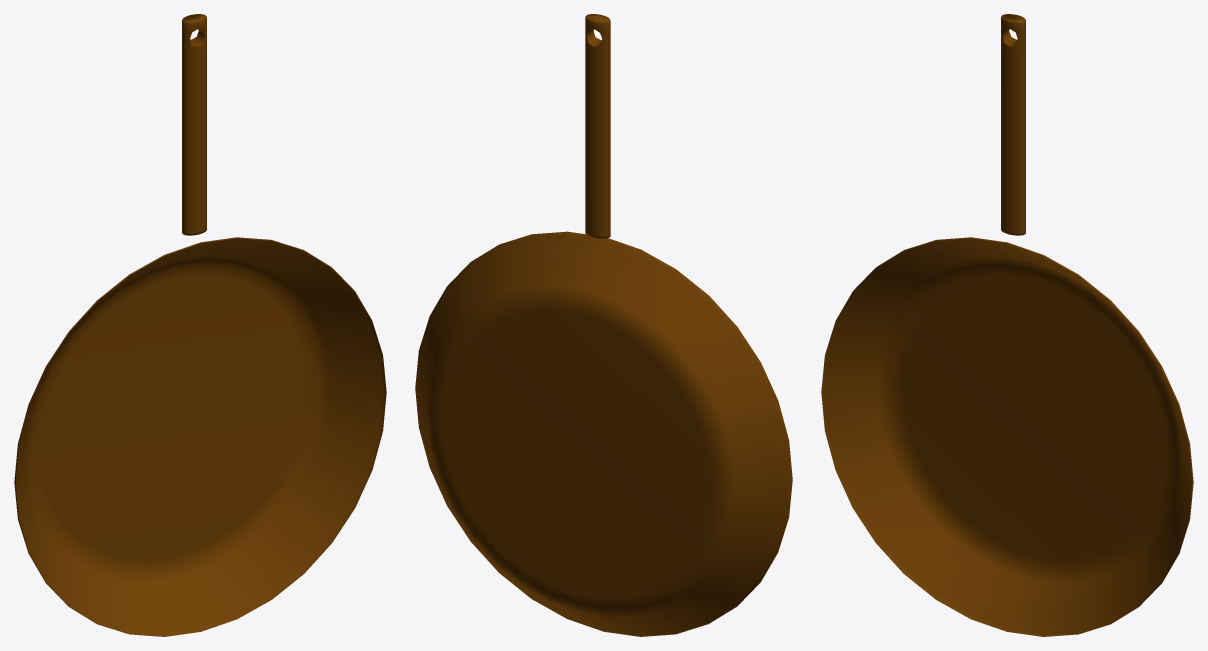
The model's file is MeshPan_2_0_GeomSubset_1.obj.
3 views of the same model, side by side, from view 1: azimuth 30°, elevation 25°; view 2: azimuth 150°, elevation 25°; view 3: azimuth 330°, elevation 25° (orthographic).
Parts seen in each view (by area): view 1: MeshPan_2_0_GeomSubset_1; view 2: MeshPan_2_0_GeomSubset_1; view 3: MeshPan_2_0_GeomSubset_1.
Boxes of the visible parts, box(x1,y1,x2,y2) form: MeshPan_2_0_GeomSubset_1: box(14, 14, 386, 636); MeshPan_2_0_GeomSubset_1: box(415, 14, 792, 636); MeshPan_2_0_GeomSubset_1: box(821, 14, 1193, 636).
Bounding box in the file's own units: 0.2822 × 0.4416 × 0.036.
